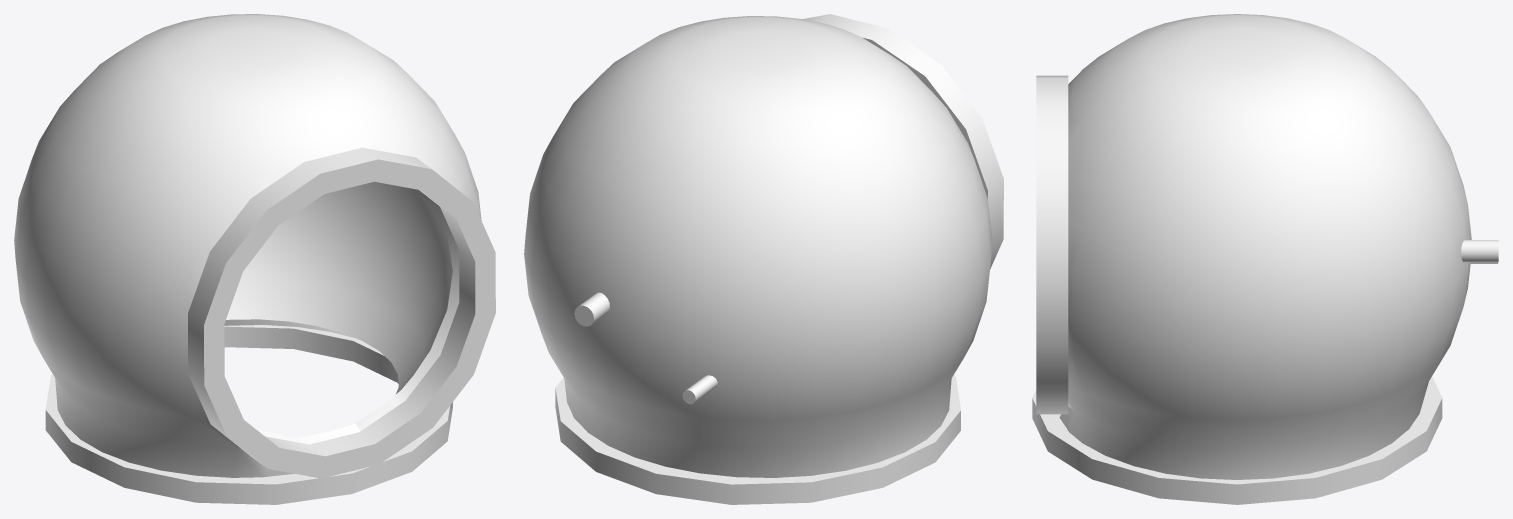
File: Helmet.obj
The picture shows the model from 3 angles, left to right: view 1: azimuth 30°, elevation 25°; view 2: azimuth 150°, elevation 25°; view 3: azimuth 270°, elevation 25°; orthographic projection.
Parts seen in each view (by area): view 1: P_Helmet; view 2: P_Helmet; view 3: P_Helmet.
Boxes of the visible parts, x1=… form: P_Helmet: x1=14, y1=14, x2=495, y2=504; P_Helmet: x1=524, y1=14, x2=1003, y2=504; P_Helmet: x1=1032, y1=14, x2=1498, y2=504.
Bounding box in the file's own units: 2 × 1.74 × 1.98.
1 material, 1 textured.
